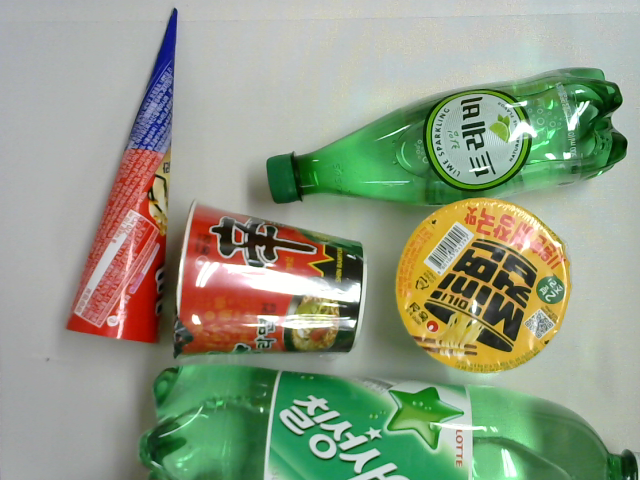Chilseong_Cider_1.5L: (137, 361, 639, 480)
Hejangmini: (395, 198, 571, 373)
Sinramen_small: (174, 200, 368, 361)
Treviraim_500ml: (268, 68, 627, 209)
World_Cone_Banila: (65, 9, 180, 345)
